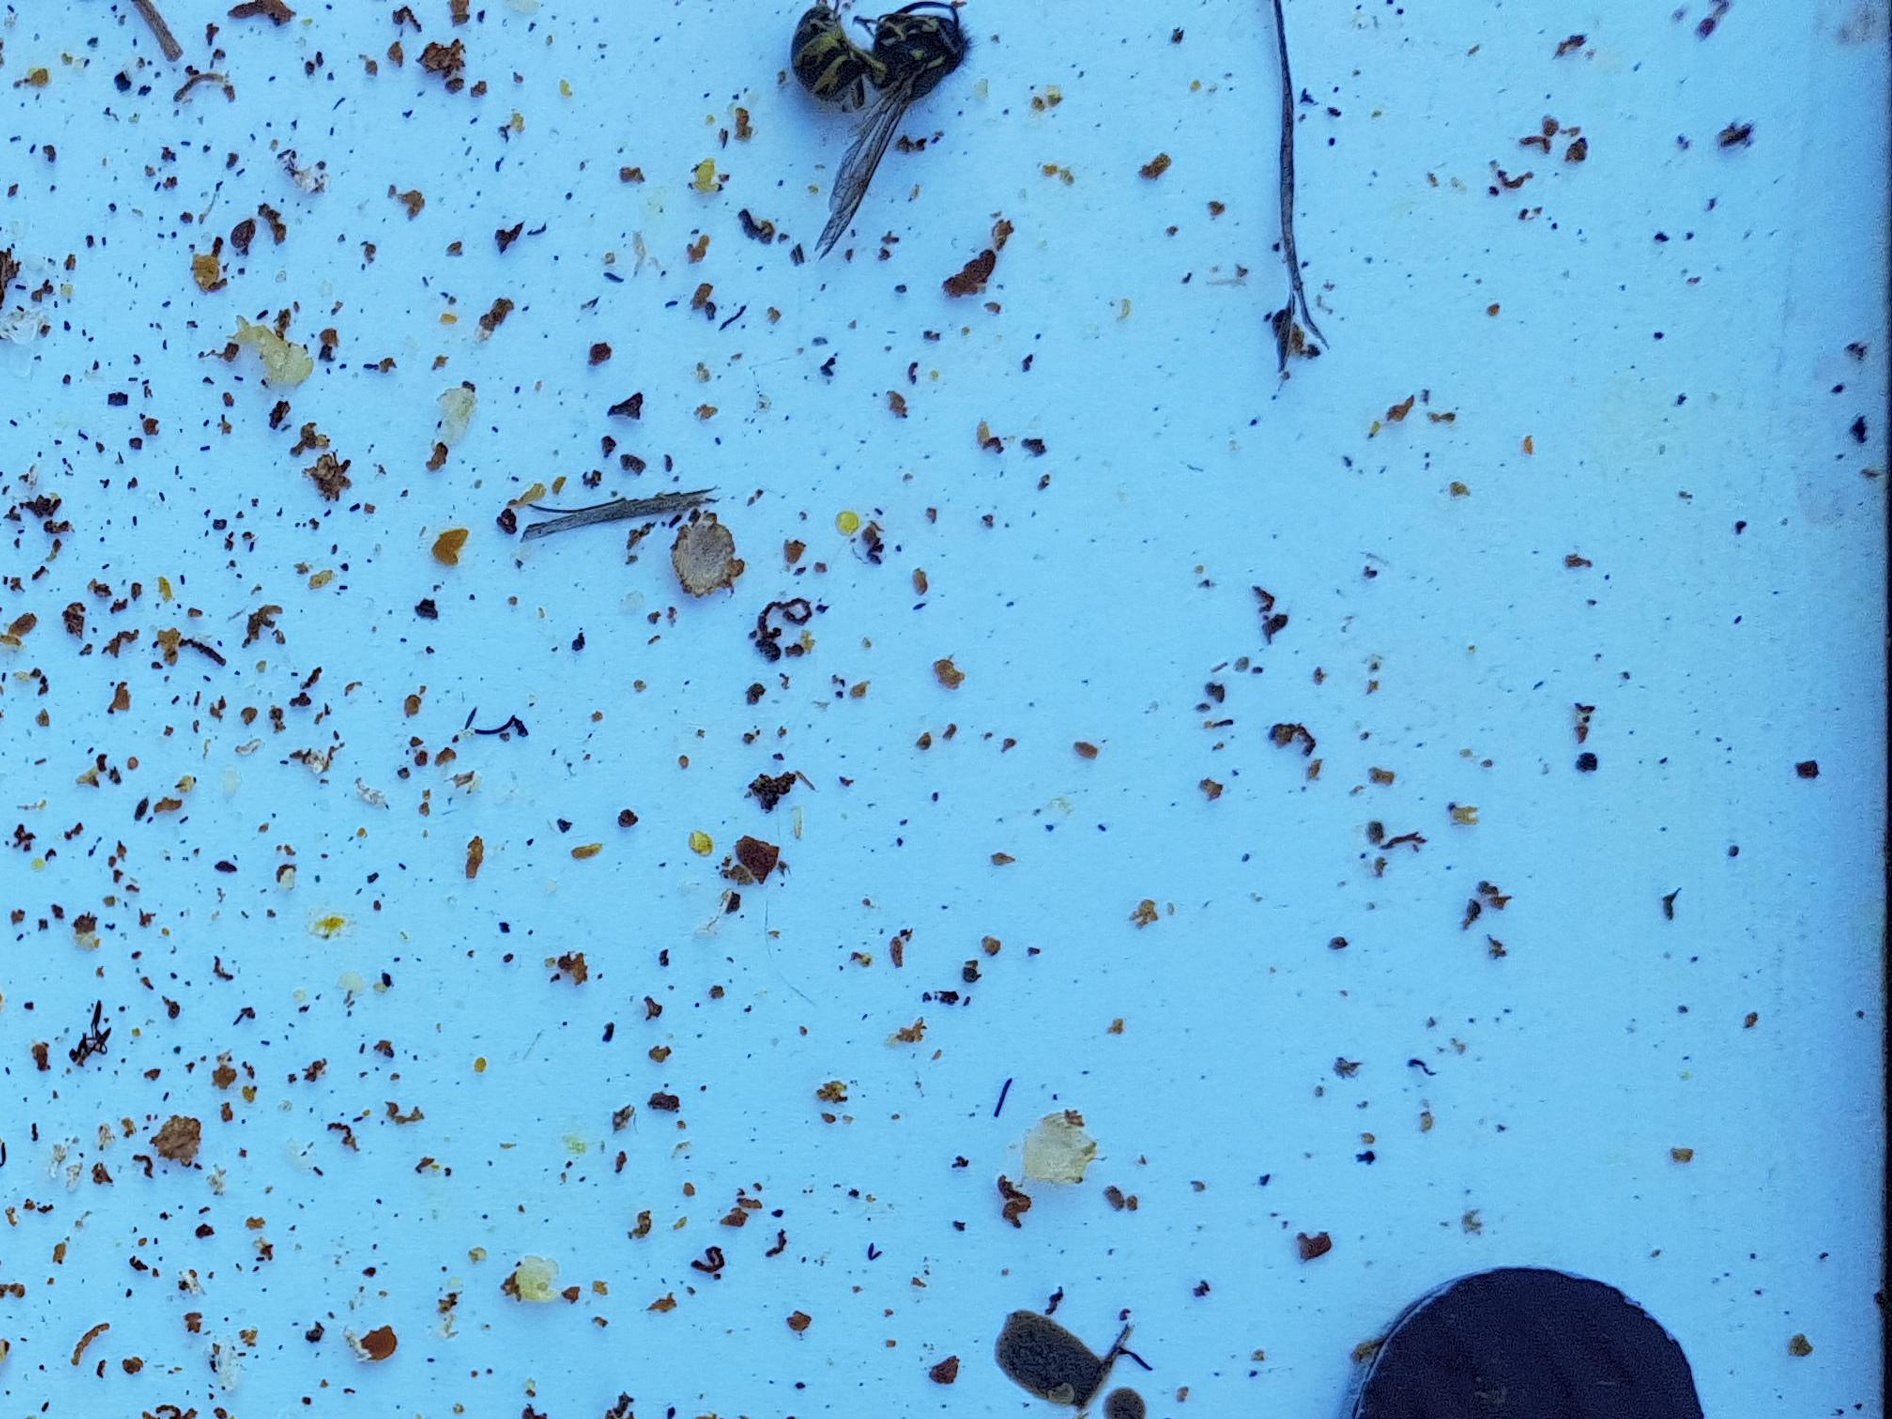Varroa: (223, 215, 262, 253)
